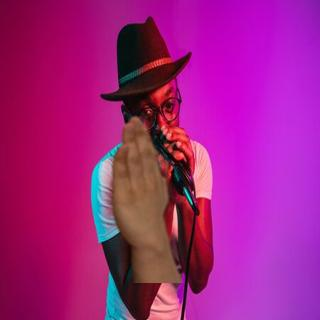RIGHT: (108, 113, 177, 253)
